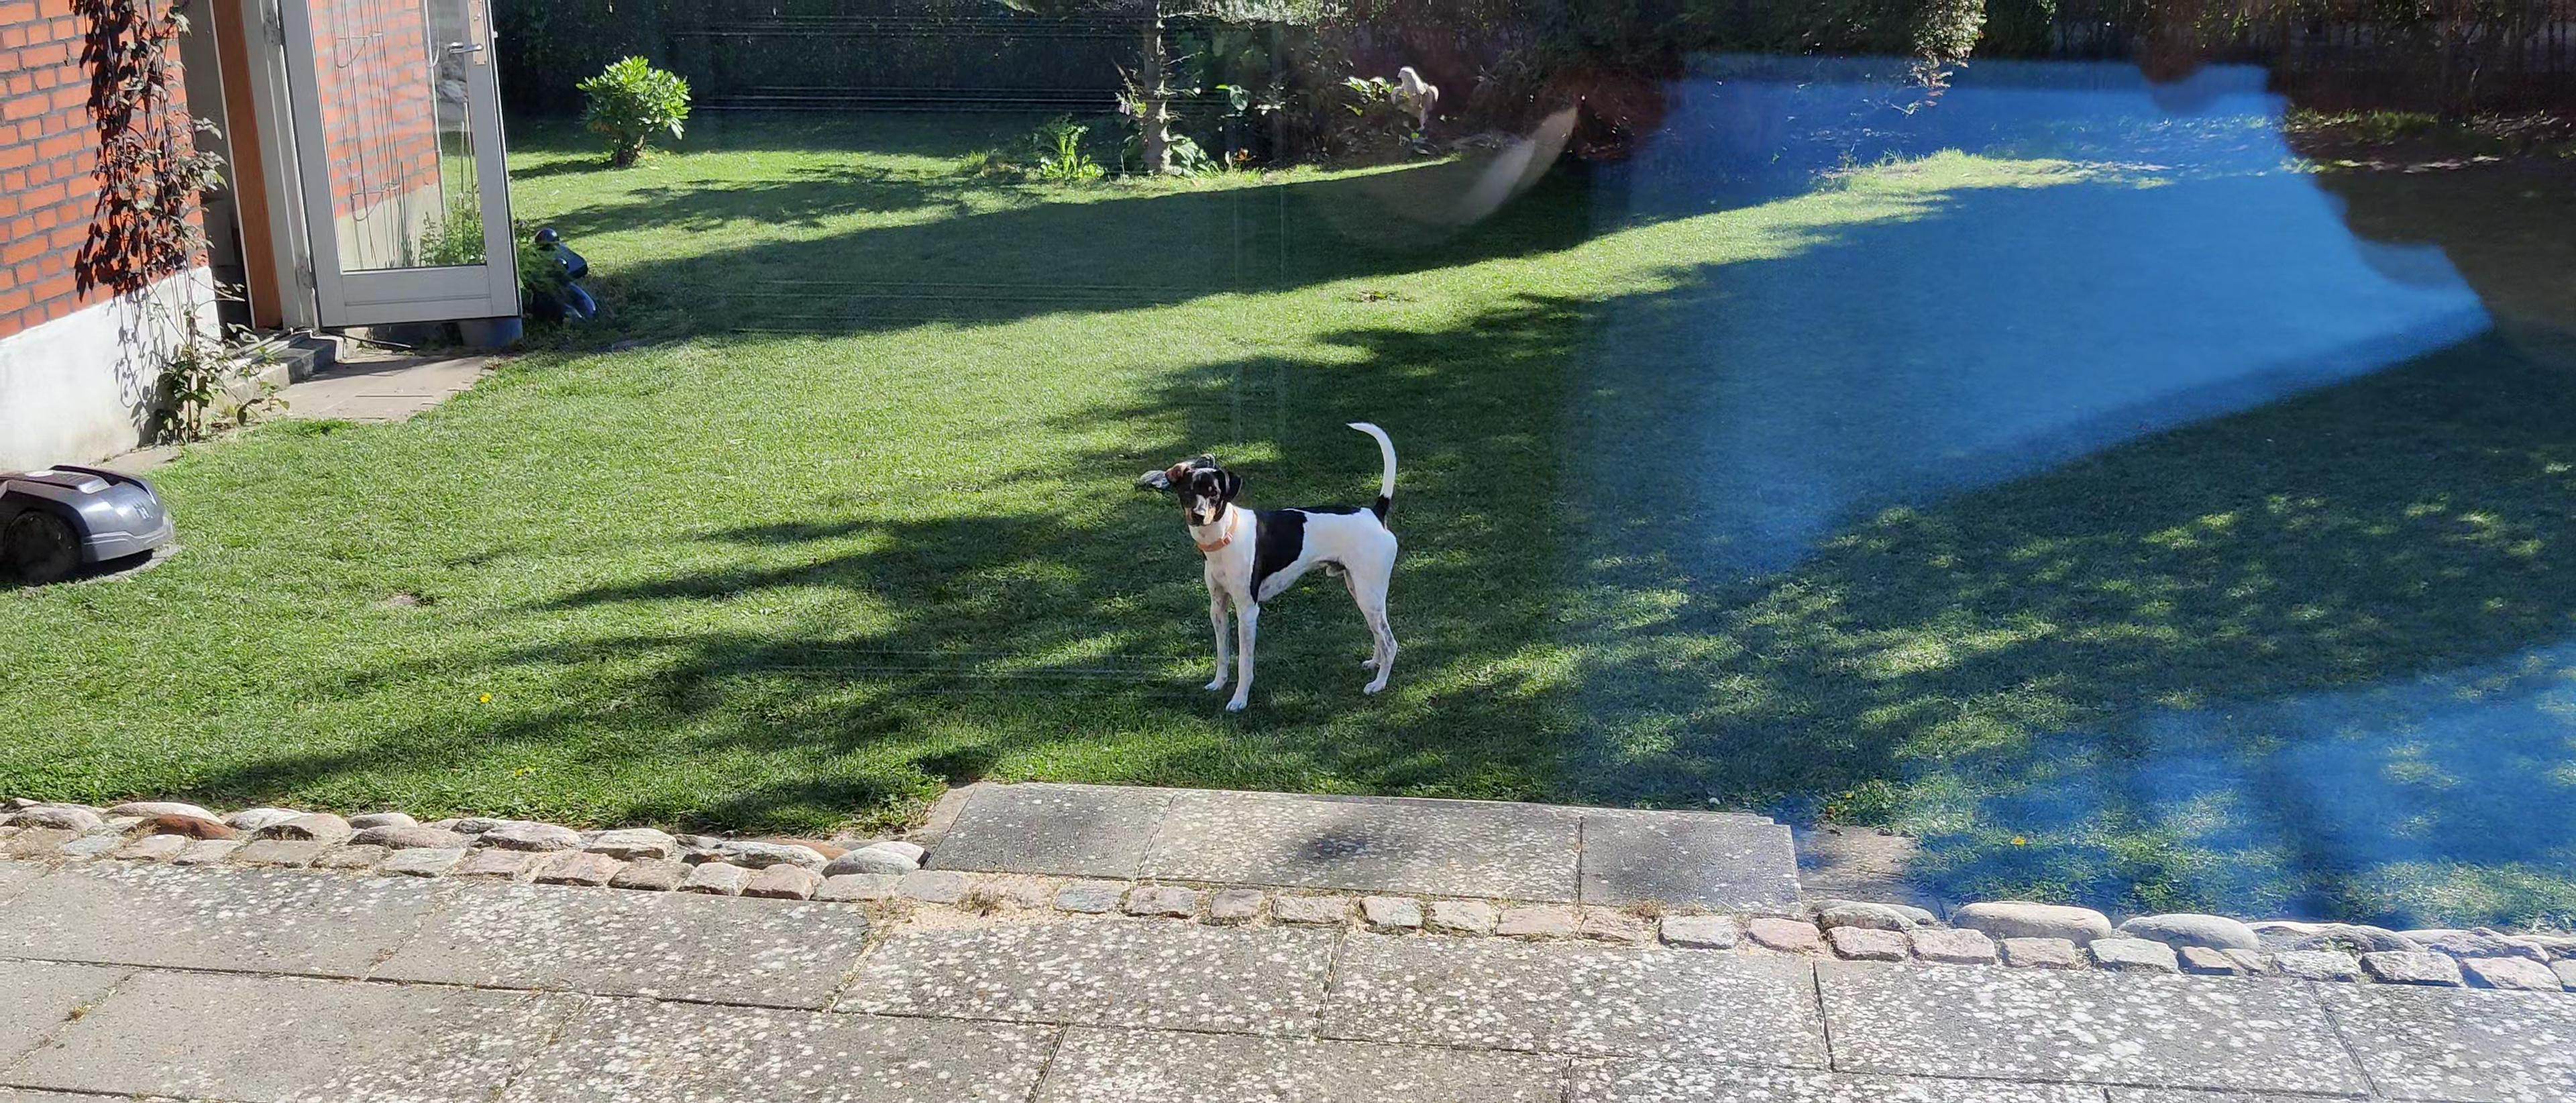Dog: (1155, 413, 1414, 718)
